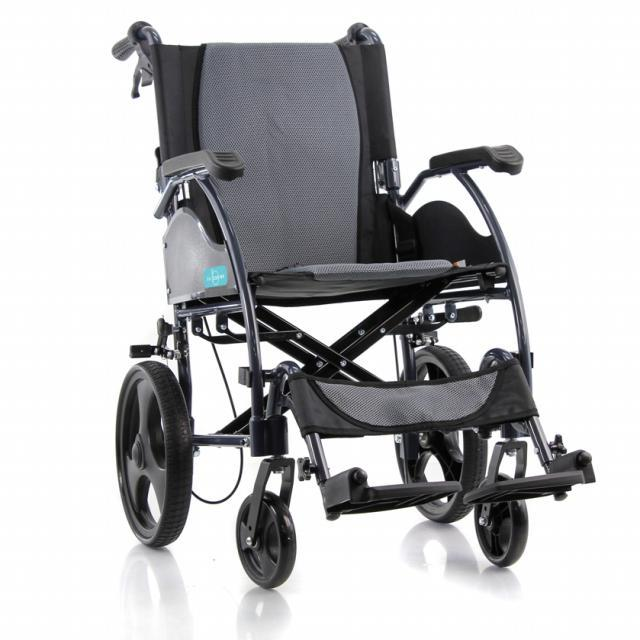wheelchair: (54, 8, 629, 606)
